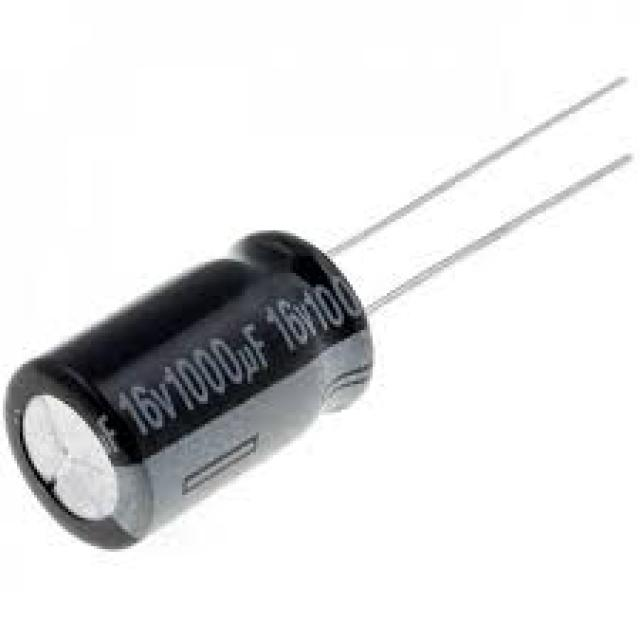Capacitor: (6, 80, 634, 552)
